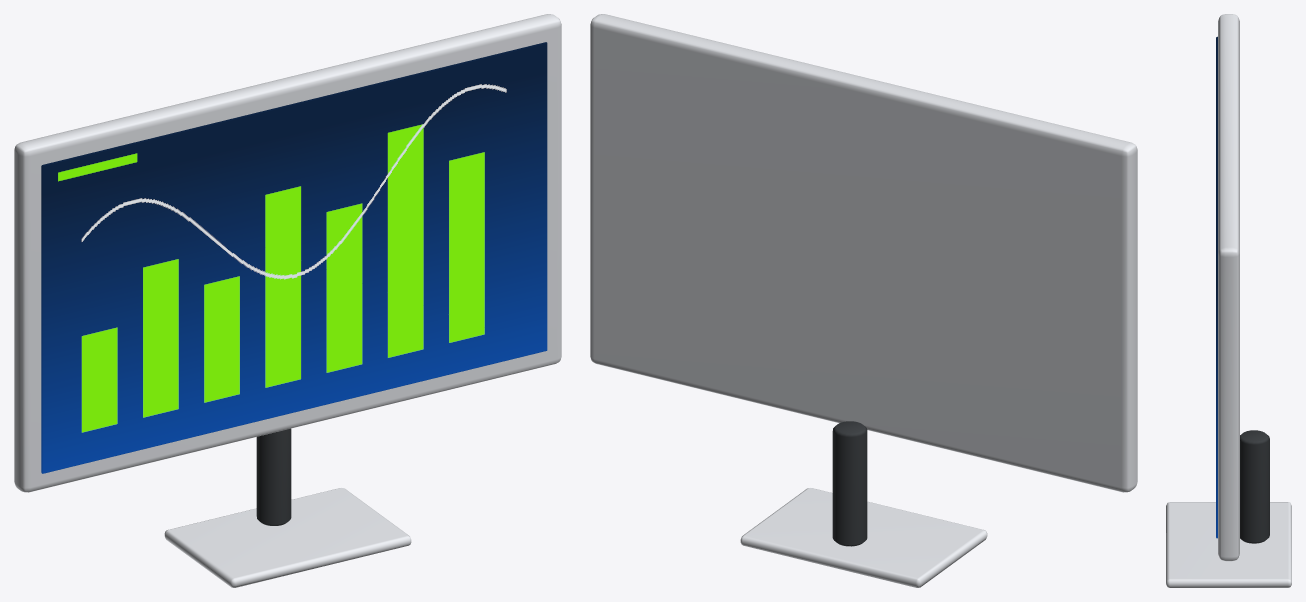
File: sample-monitor.glb
3 renders of one model, left to right at view 1: azimuth 30°, elevation 25°; view 2: azimuth 150°, elevation 25°; view 3: azimuth 270°, elevation 25°, orthographic. The views are drawn at different scales.
Parts seen in each view (by area): view 1: sample-monitor; view 2: sample-monitor; view 3: sample-monitor.
Boxes of the visible parts, left/top/right/bottom form: sample-monitor: left=14, top=14, right=561, bottom=587; sample-monitor: left=590, top=14, right=1137, bottom=587; sample-monitor: left=1166, top=14, right=1291, bottom=587.
Size of the model in its own units: 0.9 by 0.735 by 0.2.
Materials: 3 (1 with a texture image).
